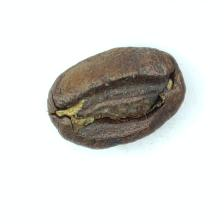NG: (60, 68, 179, 133)
